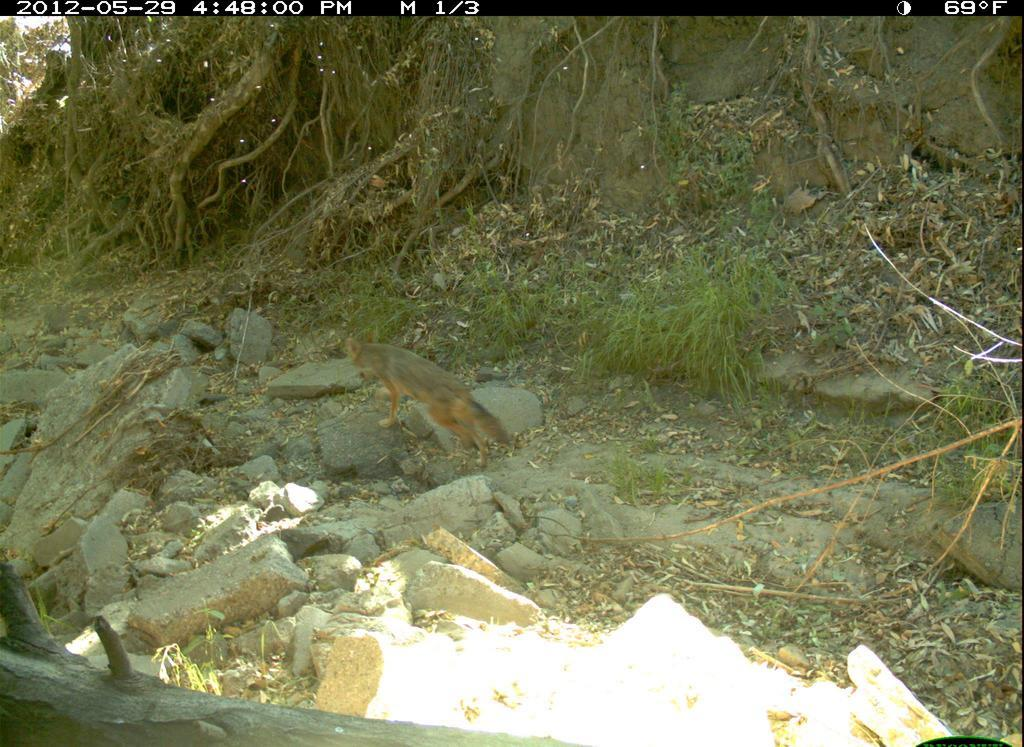coyote: (337, 327, 525, 470)
